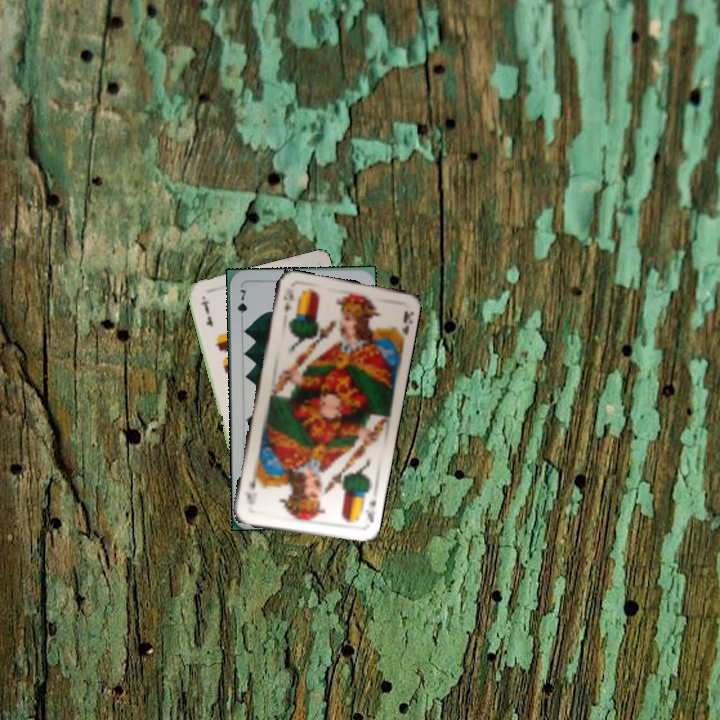E7: (196, 294, 215, 330)
EK: (361, 494, 378, 525), (279, 284, 296, 314)
G7: (233, 285, 250, 325)
